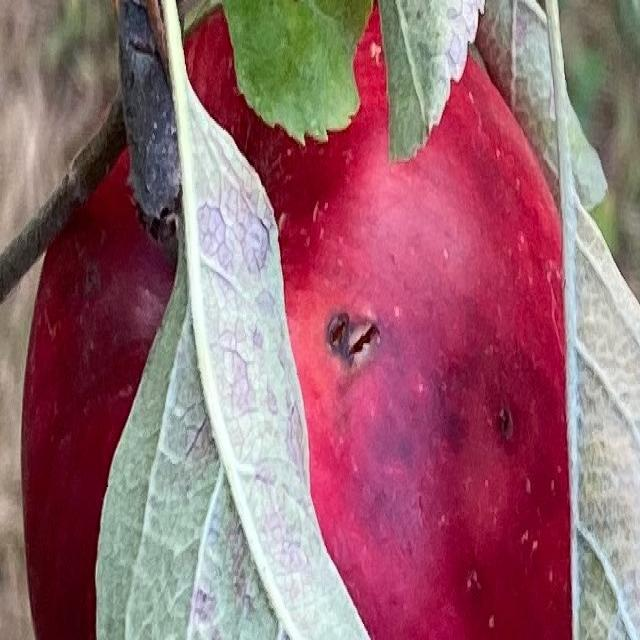100-_ripeness: (21, 0, 573, 640)
